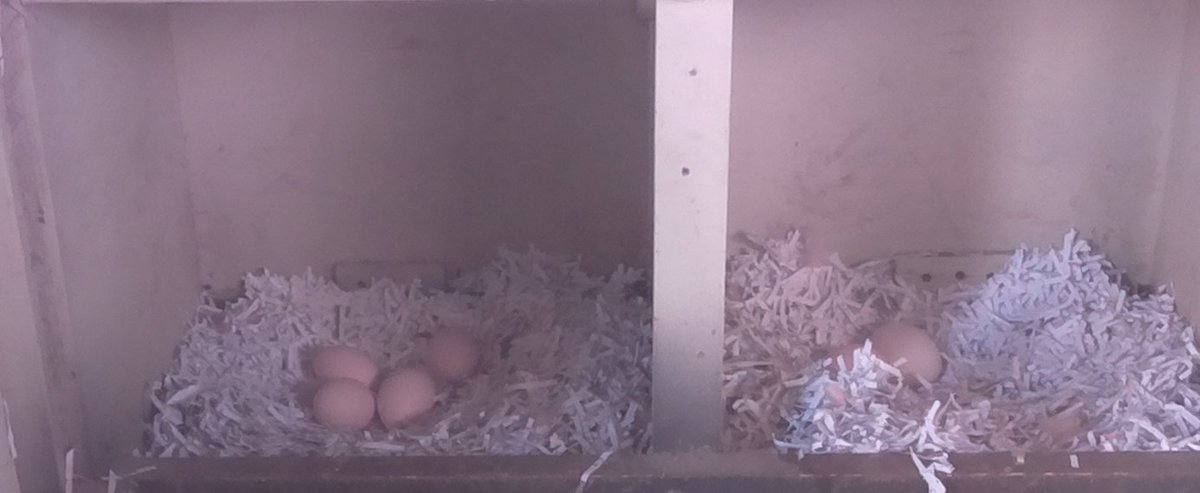egg: (864, 316, 944, 387), (375, 365, 440, 434), (308, 377, 378, 435), (424, 324, 486, 387), (310, 344, 380, 389)
